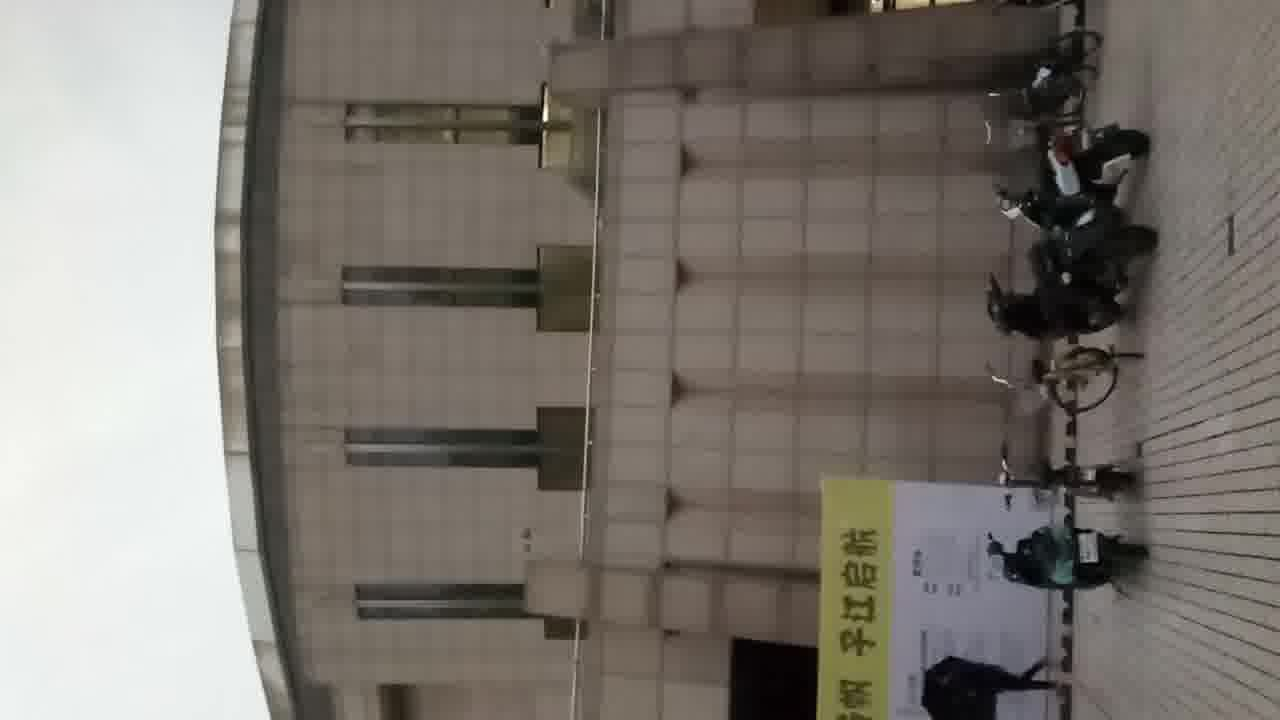zhongtiww: (206, 2, 1057, 720)
